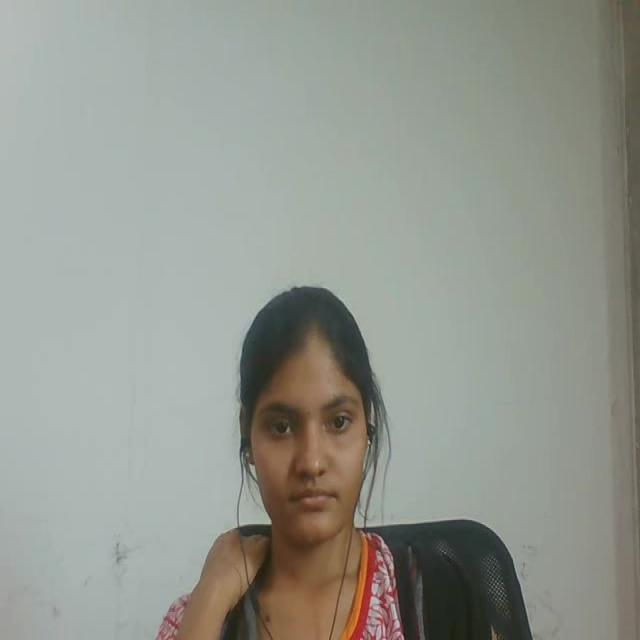Engaged: (190, 257, 406, 602)
